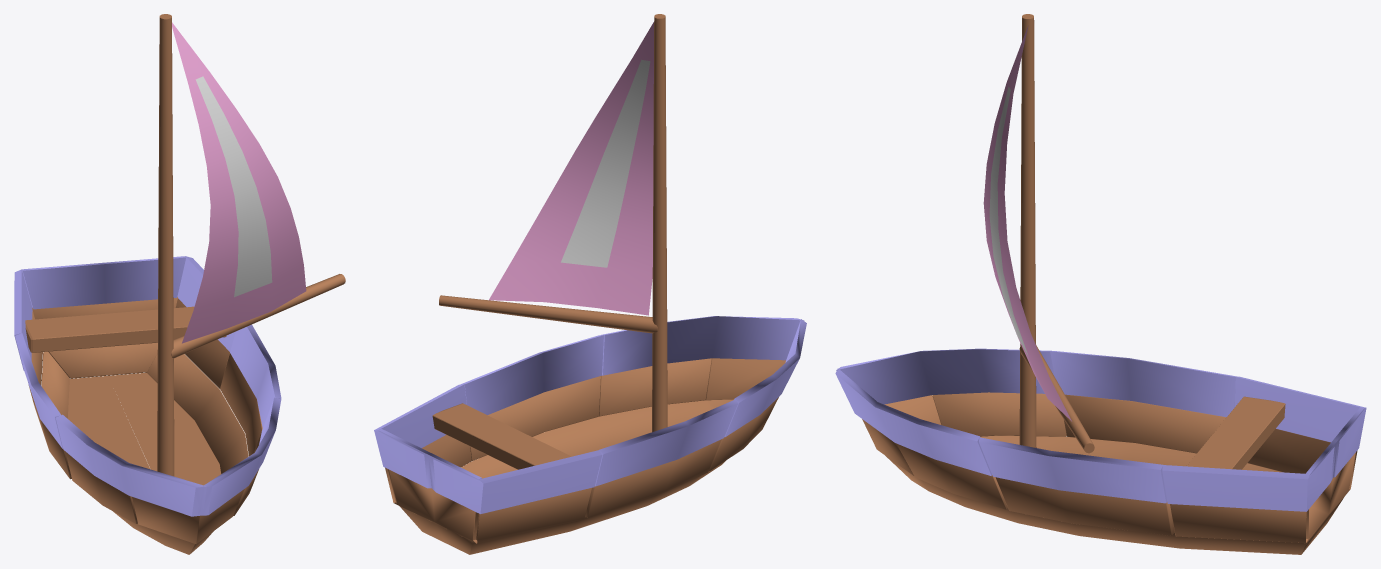
Rendered from boat.fbx.
3 renders of one model, left to right at view 1: azimuth 30°, elevation 25°; view 2: azimuth 150°, elevation 25°; view 3: azimuth 270°, elevation 25°, orthographic. The views are drawn at different scales.
Parts seen in each view (by area): view 1: Plane.007, Boat, Boat.003, Boat.002, Boat.001, Vert, Plane.006; view 2: Boat, Plane.007, Boat.003, Vert, Boat.002, Plane.006; view 3: Boat, Boat.003, Boat.002, Vert, Plane.007, Plane.006.
Part boxes in pixels (<box>): Plane.007: <box>172,22,306,343</box>; Boat: <box>14,256,281,516</box>; Boat.003: <box>28,297,262,544</box>; Boat.002: <box>41,342,248,554</box>; Boat.001: <box>67,372,221,485</box>; Vert: <box>157,14,345,476</box>; Plane.006: <box>25,306,226,352</box>; Boat: <box>374,316,806,514</box>; Plane.007: <box>489,21,654,315</box>; Boat.003: <box>385,358,785,543</box>; Vert: <box>439,14,667,432</box>; Boat.002: <box>399,399,733,554</box>; Plane.006: <box>432,403,571,469</box>; Boat: <box>835,348,1366,511</box>; Boat.003: <box>862,392,1357,543</box>; Boat.002: <box>886,435,1343,554</box>; Vert: <box>1019,14,1094,453</box>; Plane.007: <box>983,25,1071,421</box>; Plane.006: <box>1187,396,1285,469</box>.
Bounding box in the file's own units: 110 × 165 × 165.
